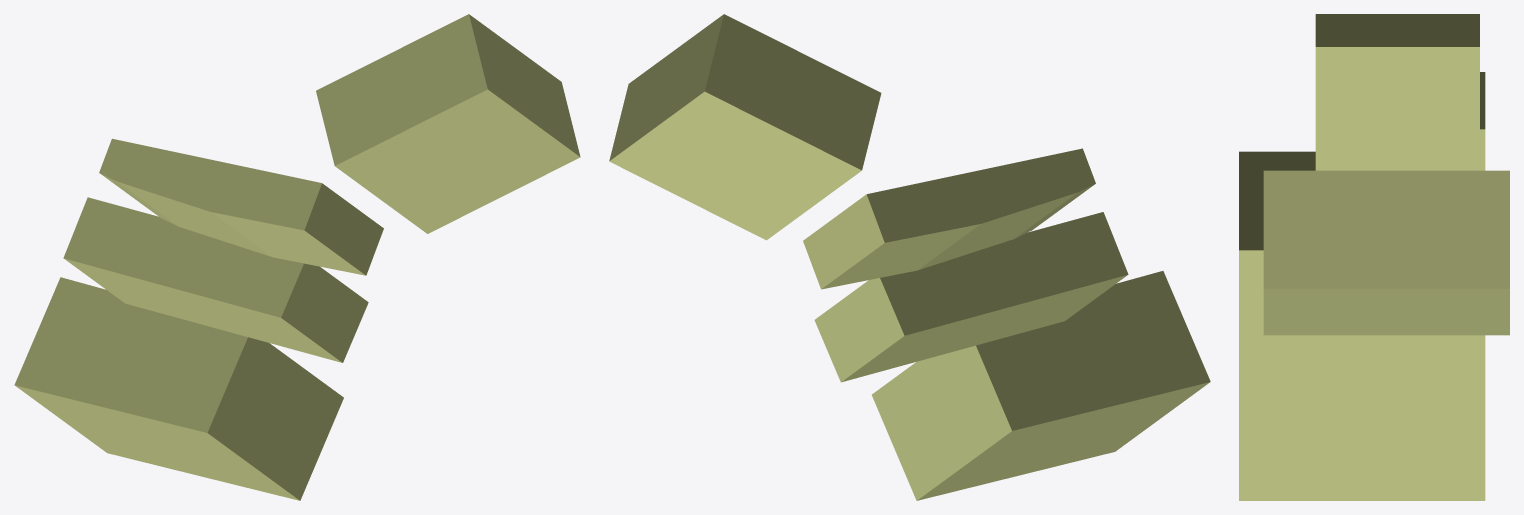
3 views of the same model, side by side, from view 1: azimuth 30°, elevation 25°; view 2: azimuth 150°, elevation 25°; view 3: azimuth 270°, elevation 25° (orthographic). The views are drawn at different scales.
Parts seen in each view (by area): view 1: 0_1_0_0_0_1_2_1_1_1; view 2: 0_1_0_0_0_1_2_1_1_1; view 3: 0_1_0_0_0_1_2_1_1_1.
Part boxes in pixels (x1,y1,x2,y2): 0_1_0_0_0_1_2_1_1_1: [14, 14, 580, 500]; 0_1_0_0_0_1_2_1_1_1: [609, 14, 1210, 500]; 0_1_0_0_0_1_2_1_1_1: [1239, 14, 1509, 500].
Bounding box in the file's own units: 27 × 18.51 × 9.9.
